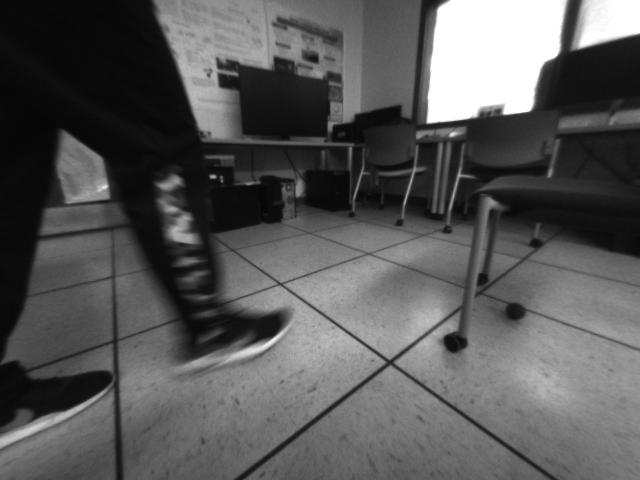dogtoy: (502, 295, 533, 326)
